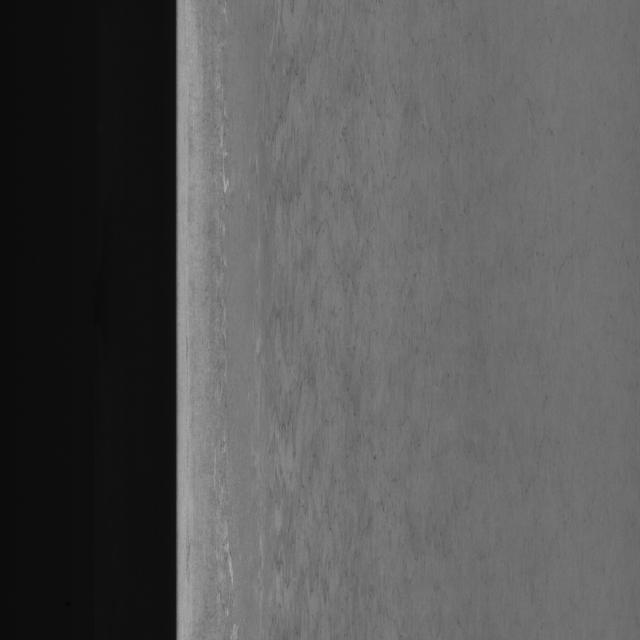inclusion: (246, 10, 430, 629)
